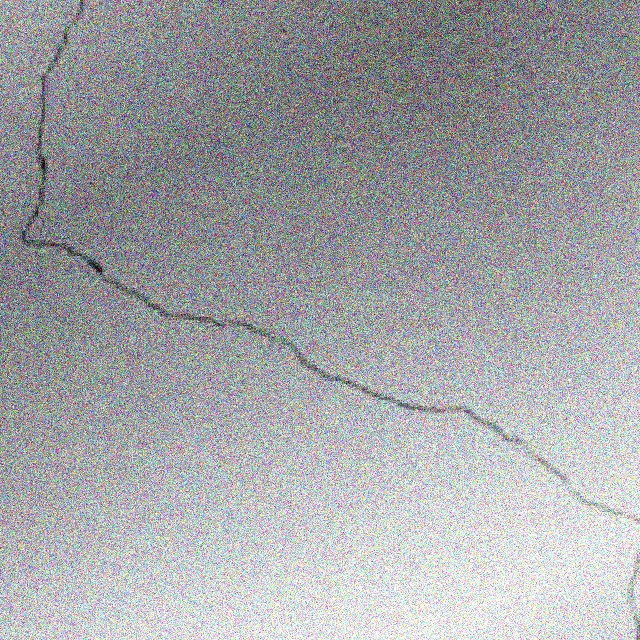SurfaceCrack: (8, 0, 640, 550)
